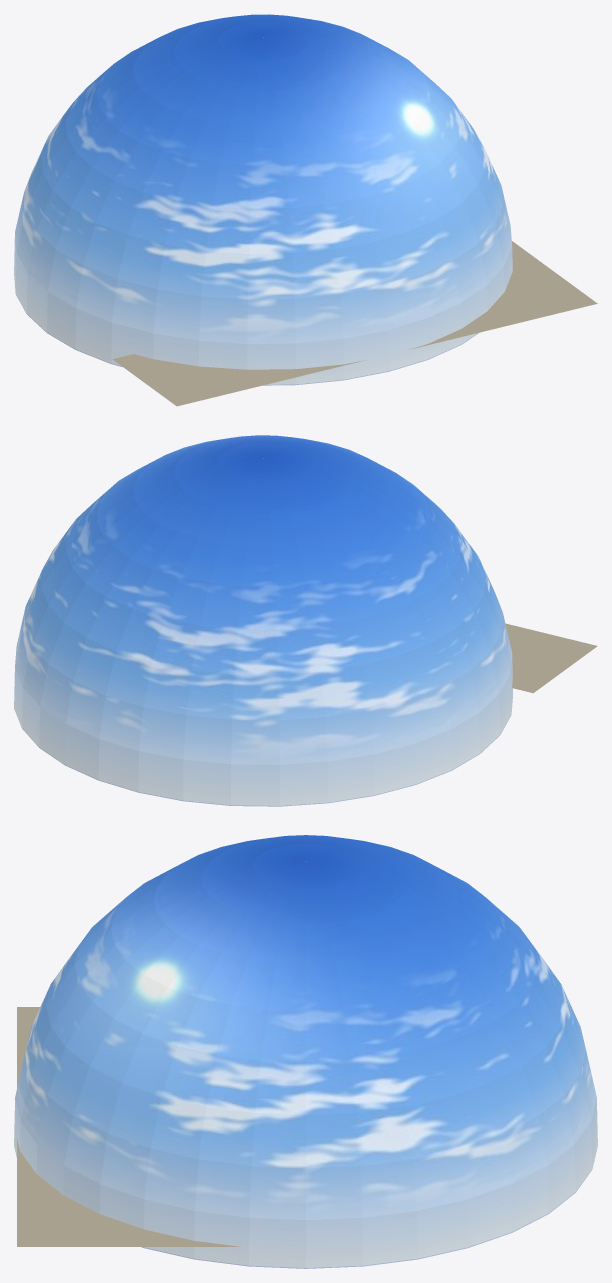
Rendered from lugar-alejandria-ciudad.glb.
3 renders of one model, top to bottom at view 1: azimuth 30°, elevation 25°; view 2: azimuth 150°, elevation 25°; view 3: azimuth 270°, elevation 25°, orthographic. The views are drawn at different scales.
Parts seen in each view (by area): view 1: planoC; view 2: planoC; view 3: planoC.
Part boxes in pixels (<box>): planoC: <box>14,14,597,406</box>; planoC: <box>14,435,597,806</box>; planoC: <box>14,835,597,1268</box>.
Size of the model in its own units: 6584 by 3530 by 6584.
Materials: 16 (14 with a texture image).
